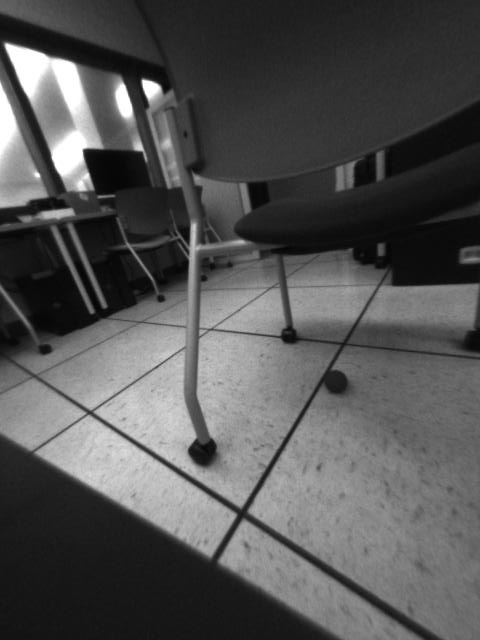dogtoy: (316, 363, 354, 398)
